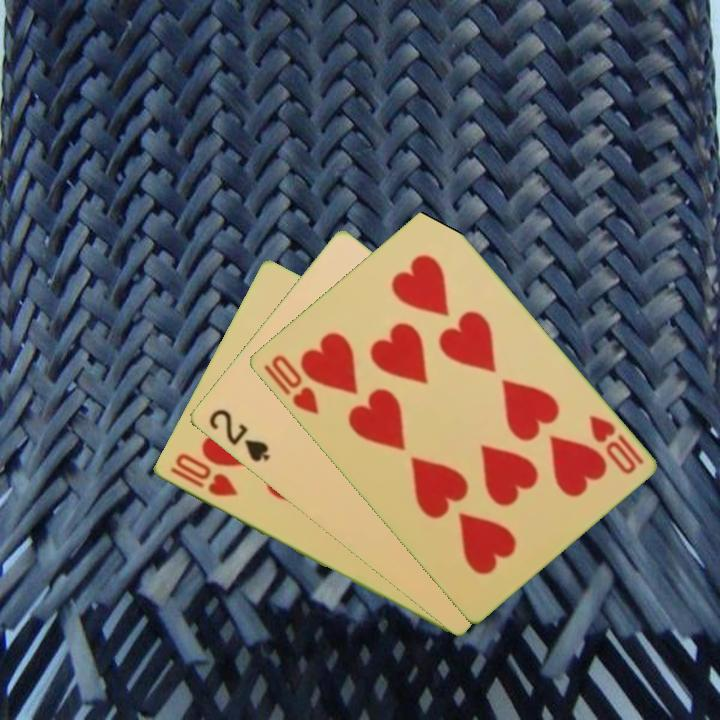10h: (259, 351, 322, 418), (584, 411, 646, 478), (166, 450, 240, 500)
2s: (204, 405, 273, 466)
